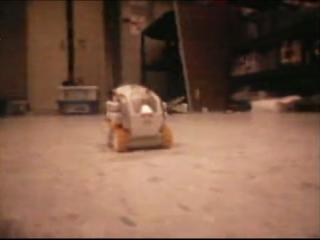cozmo: (104, 83, 173, 152)
